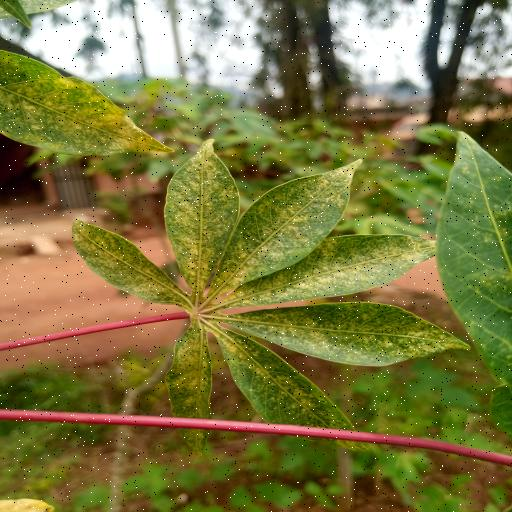Cassava_Mosaic: (66, 129, 457, 448)
